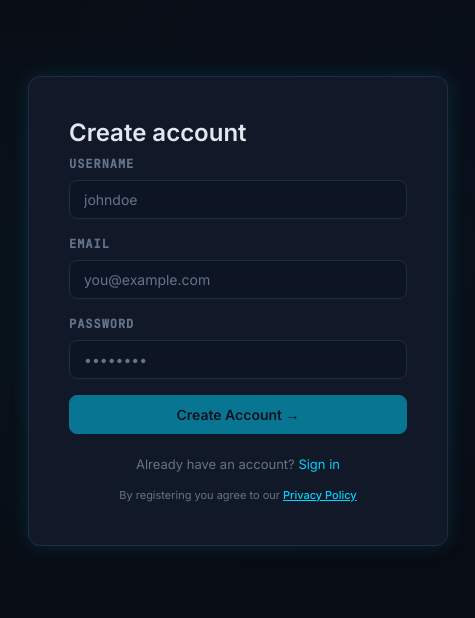
it: RegisterPage › enables submit when all password rules pass
Type "ValidPass1!" into the password field labelled "Password" at (238, 360), box [69,340,407,379]
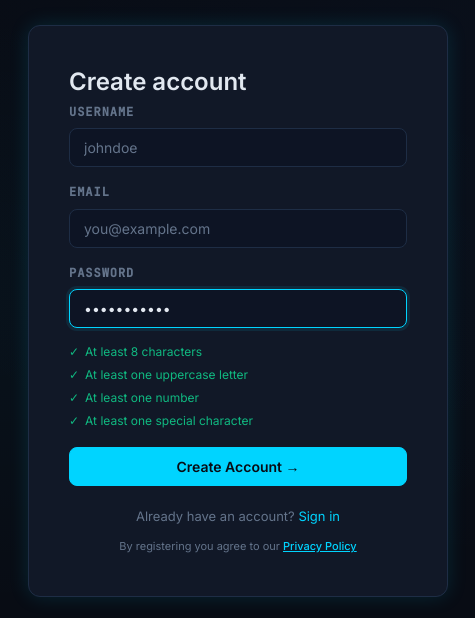
Check: the button "Create Account →" is enabled, box [69,446,407,486]
